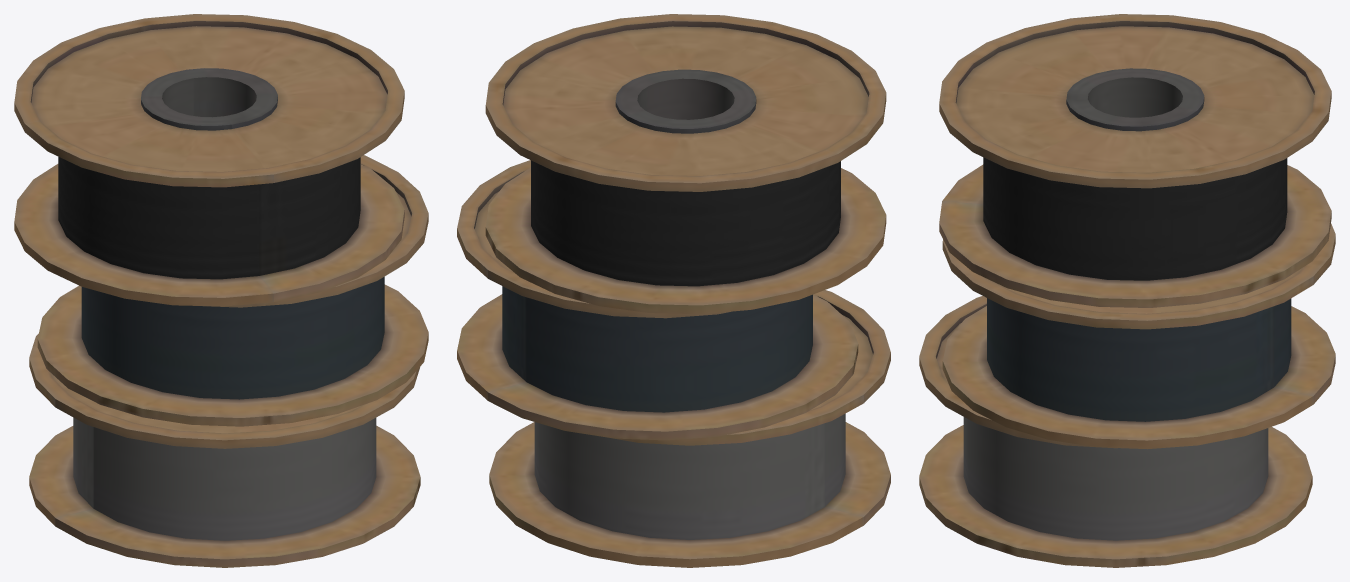
The model's file is filamentSpools.glb.
3 renders of one model, left to right at view 1: azimuth 30°, elevation 25°; view 2: azimuth 150°, elevation 25°; view 3: azimuth 270°, elevation 25°, orthographic. The views are drawn at different scales.
Visible parts, largest first — view 1: Filament_Spool_Stack; view 2: Filament_Spool_Stack; view 3: Filament_Spool_Stack.
Part boxes in pixels (box(x1,y1,x2,y2)): Filament_Spool_Stack: box(14, 14, 428, 567); Filament_Spool_Stack: box(457, 14, 890, 567); Filament_Spool_Stack: box(919, 14, 1335, 567).
Bounding box in the file's own units: 21.82 × 21.95 × 21.52.
Materials: 1 (1 with a texture image).
